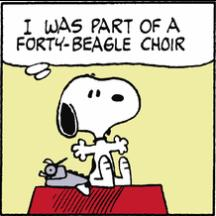snoopy: (56, 72, 142, 196)
